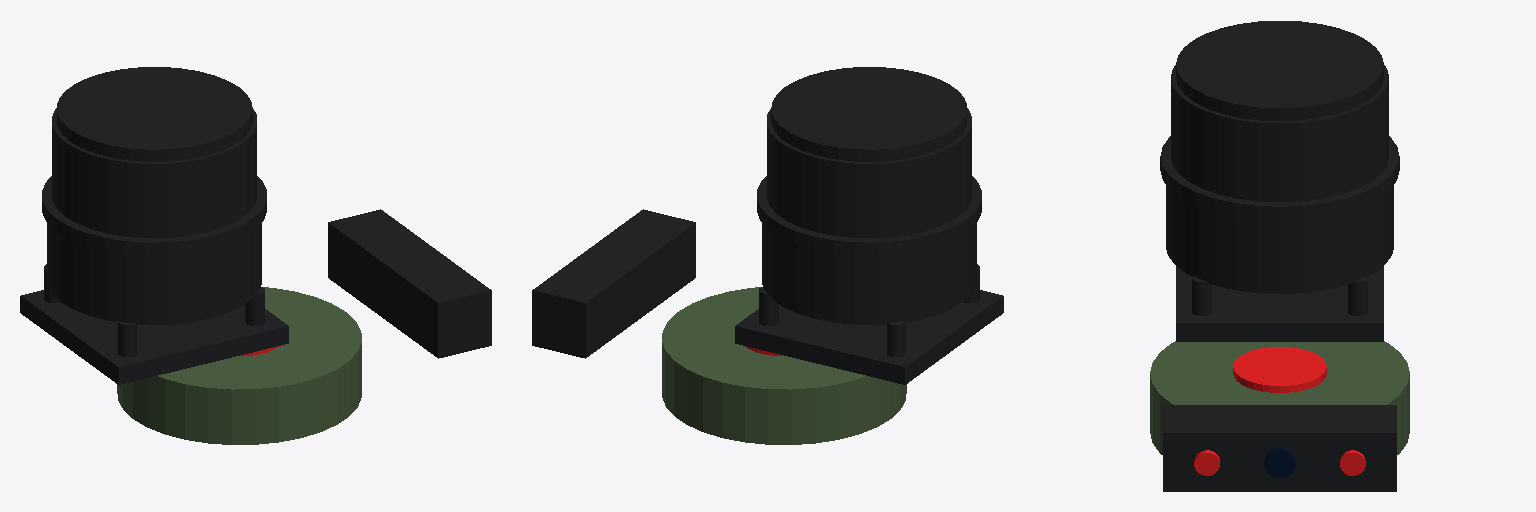
URDF robot description (army_mine_amr):
<?xml version="1.0" ?>
<!-- =================================================================================== -->
<!-- |    This document was autogenerated by xacro from /home/nammy/army_mine_bot/src/army_mine_amr/urdf/army_mine_amr.urdf.xacro | -->
<!-- |    EDITING THIS FILE BY HAND IS NOT RECOMMENDED                                 | -->
<!-- =================================================================================== -->
<!--
  ============================================================================
  ARMY BORDER UNEVEN TERRAIN AMR (Autonomous Mobile Robot)
  Derived from: Swarmy Mobile Robot (Hardware Proven Platform)
  Enhanced for: Uneven Ground Traversability, 4D LiDAR SLAM, & Mine Defusal
  ============================================================================
-->
<robot name="army_mine_amr">
  <!-- ================= MATERIALS ================= -->
  <material name="army_camo_green">
    <color rgba="0.32 0.40 0.28 1.0"/>
  </material>
  <material name="tactical_dark">
    <color rgba="0.15 0.16 0.17 1.0"/>
  </material>
  <material name="wheel_rubber">
    <color rgba="0.08 0.08 0.08 1.0"/>
  </material>
  <material name="sensor_aluminum">
    <color rgba="0.45 0.47 0.50 1.0"/>
  </material>
  <material name="lidar_optical_dome">
    <color rgba="0.05 0.12 0.22 0.95"/>
  </material>
  <material name="laser_emitter_red">
    <color rgba="0.95 0.15 0.15 1.0"/>
  </material>
  <material name="probe_carbon">
    <color rgba="0.20 0.22 0.24 1.0"/>
  </material>
  <!-- ================= BASE FOOTPRINT ================= -->
  <link name="base_footprint"/>
  <joint name="base_joint" type="fixed">
    <parent link="base_footprint"/>
    <child link="base_link"/>
    <origin rpy="0 0 0" xyz="0 0 0.033"/>
  </joint>
  <!-- ================= BASE LINK (CHASSIS) ================= -->
  <link name="base_link">
    <inertial>
      <origin rpy="0 0 0" xyz="-0.002 -0.0001 0.045"/>
      <mass value="3.85"/>
      <inertia ixx="0.0145" ixy="0.00001" ixz="-0.00001" iyy="0.0182" iyz="-0.00001" izz="0.0265"/>
    </inertial>
    <visual>
      <origin rpy="0 0 0" xyz="0 0 0"/>
      <geometry>
        <mesh filename="package://army_mine_amr/meshes/base_link.STL"/>
      </geometry>
      <material name="army_camo_green"/>
    </visual>
    <!-- High-clearance collision geometry for mountain terrain traversability (1:8 gradient) -->
    <collision>
      <origin rpy="0 0 0" xyz="0 0 0.082"/>
      <geometry>
        <box size="0.15 0.15 0.09"/>
      </geometry>
    </collision>
  </link>
  <gazebo reference="base_link">
    <material>
      <ambient>0.32 0.40 0.28 1</ambient>
      <diffuse>0.42 0.52 0.38 1</diffuse>
      <specular>0.2 0.2 0.2 1</specular>
    </material>
  </gazebo>
  <!-- ================= FRONT LEFT WHEEL ================= -->
  <link name="fl_wheel_link">
    <inertial>
      <origin rpy="0 0 0" xyz="0 0 -0.005"/>
      <mass value="0.45"/>
      <inertia ixx="0.00035" ixy="0" ixz="0" iyy="0.00035" iyz="0" izz="0.00058"/>
    </inertial>
    <visual>
      <origin rpy="0 0 0" xyz="0 0 0"/>
      <geometry>
        <mesh filename="package://army_mine_amr/meshes/lw_link.STL"/>
      </geometry>
      <material name="wheel_rubber"/>
    </visual>
    <collision>
      <origin rpy="0 0 0" xyz="0 0 -0.007"/>
      <geometry>
        <cylinder length="0.045" radius="0.0525"/>
      </geometry>
    </collision>
  </link>
  <joint name="fl_wheel_joint" type="continuous">
    <origin rpy="-1.5708 0 0" xyz="0.075 0.11086 0.018076"/>
    <parent link="base_link"/>
    <child link="fl_wheel_link"/>
    <axis xyz="0 0 1"/>
    <limit effort="50" velocity="20"/>
    <dynamics damping="0.15" friction="0.10"/>
  </joint>
  <gazebo reference="fl_wheel_link">
    <mu1>100.0</mu1>
    <mu2>100.0</mu2>
    <kp>10000000.0</kp>
    <kd>1.0</kd>
    <minDepth>0.005</minDepth>
    <material>
      <ambient>0.1 0.1 0.1 1</ambient>
      <diffuse>0.15 0.15 0.15 1</diffuse>
      <specular>0.1 0.1 0.1 1</specular>
    </material>
  </gazebo>

  <!-- ================= FRONT RIGHT WHEEL ================= -->
  <link name="fr_wheel_link">
    <inertial>
      <origin rpy="0 0 0" xyz="0 0 0.005"/>
      <mass value="0.45"/>
      <inertia ixx="0.00035" ixy="0" ixz="0" iyy="0.00035" iyz="0" izz="0.00058"/>
    </inertial>
    <visual>
      <origin rpy="0 0 0" xyz="0 0 0"/>
      <geometry>
        <mesh filename="package://army_mine_amr/meshes/rw_link.STL"/>
      </geometry>
      <material name="wheel_rubber"/>
    </visual>
    <collision>
      <origin rpy="0 0 0" xyz="0 0 0.007"/>
      <geometry>
        <cylinder length="0.045" radius="0.0525"/>
      </geometry>
    </collision>
  </link>
  <joint name="fr_wheel_joint" type="continuous">
    <origin rpy="-1.5708 0 0" xyz="0.075 -0.11086 0.018076"/>
    <parent link="base_link"/>
    <child link="fr_wheel_link"/>
    <axis xyz="0 0 1"/>
    <limit effort="50" velocity="20"/>
    <dynamics damping="0.15" friction="0.10"/>
  </joint>
  <gazebo reference="fr_wheel_link">
    <mu1>100.0</mu1>
    <mu2>100.0</mu2>
    <kp>10000000.0</kp>
    <kd>1.0</kd>
    <minDepth>0.005</minDepth>
    <material>
      <ambient>0.1 0.1 0.1 1</ambient>
      <diffuse>0.15 0.15 0.15 1</diffuse>
      <specular>0.1 0.1 0.1 1</specular>
    </material>
  </gazebo>

  <!-- ================= REAR LEFT WHEEL ================= -->
  <link name="rl_wheel_link">
    <inertial>
      <origin rpy="0 0 0" xyz="0 0 -0.005"/>
      <mass value="0.45"/>
      <inertia ixx="0.00035" ixy="0" ixz="0" iyy="0.00035" iyz="0" izz="0.00058"/>
    </inertial>
    <visual>
      <origin rpy="0 0 0" xyz="0 0 0"/>
      <geometry>
        <mesh filename="package://army_mine_amr/meshes/lw_link.STL"/>
      </geometry>
      <material name="wheel_rubber"/>
    </visual>
    <collision>
      <origin rpy="0 0 0" xyz="0 0 -0.007"/>
      <geometry>
        <cylinder length="0.045" radius="0.0525"/>
      </geometry>
    </collision>
  </link>
  <joint name="rl_wheel_joint" type="continuous">
    <origin rpy="-1.5708 0 0" xyz="-0.075 0.11086 0.018076"/>
    <parent link="base_link"/>
    <child link="rl_wheel_link"/>
    <axis xyz="0 0 1"/>
    <limit effort="50" velocity="20"/>
    <dynamics damping="0.15" friction="0.10"/>
  </joint>
  <gazebo reference="rl_wheel_link">
    <mu1>100.0</mu1>
    <mu2>100.0</mu2>
    <kp>10000000.0</kp>
    <kd>1.0</kd>
    <minDepth>0.005</minDepth>
    <material>
      <ambient>0.1 0.1 0.1 1</ambient>
      <diffuse>0.15 0.15 0.15 1</diffuse>
      <specular>0.1 0.1 0.1 1</specular>
    </material>
  </gazebo>

  <!-- ================= REAR RIGHT WHEEL ================= -->
  <link name="rr_wheel_link">
    <inertial>
      <origin rpy="0 0 0" xyz="0 0 0.005"/>
      <mass value="0.45"/>
      <inertia ixx="0.00035" ixy="0" ixz="0" iyy="0.00035" iyz="0" izz="0.00058"/>
    </inertial>
    <visual>
      <origin rpy="0 0 0" xyz="0 0 0"/>
      <geometry>
        <mesh filename="package://army_mine_amr/meshes/rw_link.STL"/>
      </geometry>
      <material name="wheel_rubber"/>
    </visual>
    <collision>
      <origin rpy="0 0 0" xyz="0 0 0.007"/>
      <geometry>
        <cylinder length="0.045" radius="0.0525"/>
      </geometry>
    </collision>
  </link>
  <joint name="rr_wheel_joint" type="continuous">
    <origin rpy="-1.5708 0 0" xyz="-0.075 -0.11086 0.018076"/>
    <parent link="base_link"/>
    <child link="rr_wheel_link"/>
    <axis xyz="0 0 1"/>
    <limit effort="50" velocity="20"/>
    <dynamics damping="0.15" friction="0.10"/>
  </joint>
  <gazebo reference="rr_wheel_link">
    <mu1>100.0</mu1>
    <mu2>100.0</mu2>
    <kp>10000000.0</kp>
    <kd>1.0</kd>
    <minDepth>0.005</minDepth>
    <material>
      <ambient>0.1 0.1 0.1 1</ambient>
      <diffuse>0.15 0.15 0.15 1</diffuse>
      <specular>0.1 0.1 0.1 1</specular>
    </material>
  </gazebo>
  <!-- ================= 4D LIDAR SENSOR ON TOP ================= -->
  <!-- 4D LiDAR Riser / Housing -->
  <link name="lidar4d_mount_link">
    <visual>
      <origin rpy="0 0 0" xyz="0 0 0"/>
      <geometry>
        <mesh filename="package://army_mine_amr/meshes/lidar4d.STL"/>
      </geometry>
      <material name="tactical_dark"/>
    </visual>
    <collision>
      <origin rpy="0 0 0" xyz="0 0 0.05"/>
      <geometry>
        <cylinder length="0.10" radius="0.046"/>
      </geometry>
    </collision>
    <inertial>
      <origin rpy="0 0 0" xyz="0 0 0.05"/>
      <mass value="0.25"/>
      <inertia ixx="0.0002" ixy="0" ixz="0" iyy="0.0002" iyz="0" izz="0.0003"/>
    </inertial>
  </link>
  <joint name="lidar4d_mount_joint" type="fixed">
    <origin rpy="0 0 0" xyz="0.0 0.0 0.168"/>
    <parent link="base_link"/>
    <child link="lidar4d_mount_link"/>
  </joint>
  <!-- Optical center of 4D LiDAR (emitter/receiver center) -->
  <link name="lidar4d_link"/>
  <joint name="lidar4d_joint" type="fixed">
    <origin rpy="0 0 0" xyz="0.0 0.0 0.076"/>
    <parent link="lidar4d_mount_link"/>
    <child link="lidar4d_link"/>
  </joint>
  <!-- Gazebo Sim 4D GPU LiDAR Sensor -->
  <gazebo reference="lidar4d_link">
    <sensor name="lidar4d" type="gpu_lidar">
      <pose>0 0 0 0 0 0</pose>
      <always_on>true</always_on>
      <update_rate>15.0</update_rate>
      <visualize>false</visualize>
      <topic>/scan</topic>
      <gz_frame_id>lidar4d_link</gz_frame_id>
      <lidar>
        <scan>
          <horizontal>
            <samples>720</samples>
            <resolution>1</resolution>
            <min_angle>-3.14159265</min_angle>
            <max_angle>3.14159265</max_angle>
          </horizontal>
          <vertical>
            <samples>16</samples>
            <resolution>1</resolution>
            <min_angle>-0.261799</min_angle>
            <max_angle>0.261799</max_angle>
          </vertical>
        </scan>
        <range>
          <min>0.15</min>
          <max>40.0</max>
          <resolution>0.01</resolution>
        </range>
        <noise>
          <type>gaussian</type>
          <mean>0.0</mean>
          <stddev>0.008</stddev>
        </noise>
      </lidar>
    </sensor>
  </gazebo>
  <!-- ================= IMU SENSOR ================= -->
  <link name="imu_link">
    <inertial>
      <origin rpy="0 0 0" xyz="0 0 0"/>
      <mass value="0.02"/>
      <inertia ixx="0.000001" ixy="0" ixz="0" iyy="0.000001" iyz="0" izz="0.000001"/>
    </inertial>
  </link>
  <joint name="imu_joint" type="fixed">
    <origin rpy="0 0 0" xyz="0.0 0.0 0.05"/>
    <parent link="base_link"/>
    <child link="imu_link"/>
  </joint>
  <gazebo reference="imu_link">
    <sensor name="imu_sensor" type="imu">
      <always_on>true</always_on>
      <update_rate>100</update_rate>
      <visualize>false</visualize>
      <topic>/imu/data</topic>
      <gz_frame_id>imu_link</gz_frame_id>
    </sensor>
  </gazebo>
  <!-- ================= NIPUN ANTI-PERSONNEL MINE CARRIER PAYLOAD ================= -->
  <!-- Requirements 2, 6, 10, 15 from Downloads/1.docx: 10cm coaster-sized NIPUN minelet carrier -->
  <link name="mine_probe_link">
    <visual>
      <origin rpy="0 0 0" xyz="0.04 0 0.142"/>
      <geometry>
        <cylinder length="0.025" radius="0.05"/>
      </geometry>
      <material name="army_camo_green"/>
    </visual>
    <visual>
      <origin rpy="0 0 0" xyz="0.04 0 0.155"/>
      <geometry>
        <cylinder length="0.005" radius="0.018"/>
      </geometry>
      <material name="laser_emitter_red"/>
    </visual>
    <inertial>
      <origin rpy="0 0 0" xyz="0.04 0 0.14"/>
      <mass value="0.22"/>
      <inertia ixx="0.0001" ixy="0" ixz="0" iyy="0.0001" iyz="0" izz="0.0001"/>
    </inertial>
  </link>
  <joint name="mine_probe_joint" type="fixed">
    <origin rpy="0 0 0" xyz="0.0 0.0 0.0"/>
    <parent link="base_link"/>
    <child link="mine_probe_link"/>
  </joint>
  <!-- ================= TACTICAL RGB-D DEPTH CAMERA (Intel RealSense D435) ================= -->
  <link name="camera_link">
    <visual>
      <origin rpy="0 0 0" xyz="0 0 0"/>
      <geometry>
        <box size="0.025 0.090 0.025"/>
      </geometry>
      <material name="tactical_dark"/>
    </visual>
    <visual>
      <origin rpy="0 1.5707963 0" xyz="0.013 0 0"/>
      <geometry>
        <cylinder length="0.003" radius="0.006"/>
      </geometry>
      <material name="lidar_optical_dome"/>
    </visual>
    <visual>
      <origin rpy="0 1.5707963 0" xyz="0.013 0.028 0"/>
      <geometry>
        <cylinder length="0.003" radius="0.005"/>
      </geometry>
      <material name="laser_emitter_red"/>
    </visual>
    <visual>
      <origin rpy="0 1.5707963 0" xyz="0.013 -0.028 0"/>
      <geometry>
        <cylinder length="0.003" radius="0.005"/>
      </geometry>
      <material name="laser_emitter_red"/>
    </visual>
    <collision>
      <origin rpy="0 0 0" xyz="0 0 0"/>
      <geometry>
        <box size="0.025 0.090 0.025"/>
      </geometry>
    </collision>
    <inertial>
      <origin rpy="0 0 0" xyz="0 0 0"/>
      <mass value="0.072"/>
      <inertia ixx="0.00004" ixy="0" ixz="0" iyy="0.00001" iyz="0" izz="0.00004"/>
    </inertial>
  </link>
  <joint name="camera_joint" type="fixed">
    <origin rpy="0 0 0" xyz="0.12 0.0 0.16"/>
    <parent link="base_link"/>
    <child link="camera_link"/>
  </joint>
  <link name="camera_depth_optical_frame"/>
  <joint name="camera_depth_optical_joint" type="fixed">
    <origin rpy="-1.5707963 0 -1.5707963" xyz="0 0 0"/>
    <parent link="camera_link"/>
    <child link="camera_depth_optical_frame"/>
  </joint>
  <gazebo reference="camera_link">
    <sensor name="depth_camera" type="rgbd_camera">
      <always_on>true</always_on>
      <update_rate>20</update_rate>
      <visualize>true</visualize>
      <topic>/camera</topic>
      <gz_frame_id>camera_link</gz_frame_id>
      <camera>
        <horizontal_fov>1.5184</horizontal_fov>
        <image>
          <width>640</width>
          <height>480</height>
          <format>RGB_INT8</format>
        </image>
        <clip>
          <near>0.15</near>
          <far>15.0</far>
        </clip>
        <depth_camera>
          <clip>
            <near>0.15</near>
            <far>15.0</far>
          </clip>
        </depth_camera>
        <noise>
          <type>gaussian</type>
          <mean>0.0</mean>
          <stddev>0.005</stddev>
        </noise>
      </camera>
    </sensor>
  </gazebo>
  <!-- ================= GAZEBO SIM SIMULATION PLUGINS ================= -->
  <gazebo>
    <!-- 4-Wheel Skid-Steer Differential Drive on Uneven Terrain -->
    <plugin filename="libignition-gazebo-diff-drive-system.so" name="ignition::gazebo::systems::DiffDrive">
      <left_joint>fl_wheel_joint</left_joint>
      <left_joint>rl_wheel_joint</left_joint>
      <right_joint>fr_wheel_joint</right_joint>
      <right_joint>rr_wheel_joint</right_joint>
      <wheel_separation>0.22172</wheel_separation>
      <wheel_radius>0.0525</wheel_radius>
      <odom_publish_frequency>50</odom_publish_frequency>
      <max_wheel_torque>60.0</max_wheel_torque>
      <max_wheel_acceleration>15.0</max_wheel_acceleration>
      <max_linear_acceleration>5.0</max_linear_acceleration>
      <min_linear_acceleration>-5.0</min_linear_acceleration>
      <max_angular_acceleration>6.0</max_angular_acceleration>
      <min_angular_acceleration>-6.0</min_angular_acceleration>
      <max_linear_velocity>2.0</max_linear_velocity>
      <min_linear_velocity>-2.0</min_linear_velocity>
      <max_angular_velocity>3.5</max_angular_velocity>
      <min_angular_velocity>-3.5</min_angular_velocity>
      <topic>/cmd_vel</topic>
      <odom_topic>/odom</odom_topic>
      <tf_topic>/tf</tf_topic>
      <frame_id>odom</frame_id>
      <child_frame_id>base_footprint</child_frame_id>
    </plugin>
    <!-- Joint State Publisher for 4 Wheels -->
    <plugin filename="libignition-gazebo-joint-state-publisher-system.so" name="ignition::gazebo::systems::JointStatePublisher">
      <topic>/joint_states</topic>
      <joint_name>fl_wheel_joint</joint_name>
      <joint_name>fr_wheel_joint</joint_name>
      <joint_name>rl_wheel_joint</joint_name>
      <joint_name>rr_wheel_joint</joint_name>
    </plugin>
    <!-- Sensor Rendering Plugin -->
    <plugin filename="libignition-gazebo-sensors-system.so" name="ignition::gazebo::systems::Sensors">
      <render_engine>ogre2</render_engine>
    </plugin>
    <!-- IMU System Plugin -->
    <plugin filename="libignition-gazebo-imu-system.so" name="ignition::gazebo::systems::Imu">
    </plugin>
  </gazebo>
</robot>

--- What the picture shows (computed from the rendered views, not written in the file) ---
The picture shows the robot from 3 angles, left to right: view 1: azimuth 30°, elevation 25°; view 2: azimuth 150°, elevation 25°; view 3: azimuth 270°, elevation 25°; orthographic projection.
Model army_mine_amr with 12 links and 11 joints (4 continuous, 7 fixed), rooted at base_footprint, posed every joint at zero.
Visible links, largest first — view 1: lidar4d_mount_link, mine_probe_link, camera_link; view 2: lidar4d_mount_link, mine_probe_link, camera_link; view 3: lidar4d_mount_link, camera_link, mine_probe_link.
Link boxes in pixels (bbox=[...]): lidar4d_mount_link: bbox=[20, 67, 288, 384]; mine_probe_link: bbox=[117, 287, 361, 444]; camera_link: bbox=[328, 209, 491, 358]; lidar4d_mount_link: bbox=[735, 67, 1003, 384]; mine_probe_link: bbox=[662, 287, 906, 444]; camera_link: bbox=[532, 209, 695, 358]; lidar4d_mount_link: bbox=[1160, 21, 1399, 341]; camera_link: bbox=[1163, 405, 1396, 491]; mine_probe_link: bbox=[1150, 341, 1409, 454].
Bounding box of the posed robot: 0.1805 × 0.1 × 0.1375 m (x, y, z).
Meshes: 4 distinct files referenced, 1 mesh visuals loaded (1 binary STL); not drawn: 5 (reference not matched to a file when rendering).
